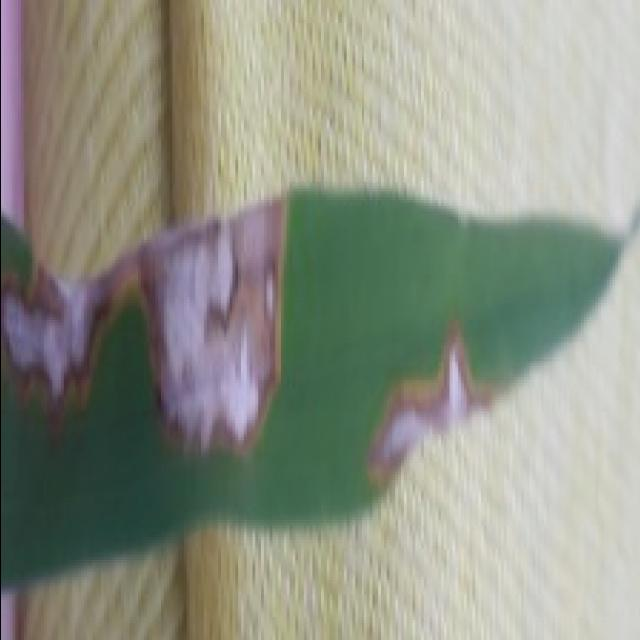Unhealthy: (0, 192, 291, 469), (364, 320, 510, 494)
